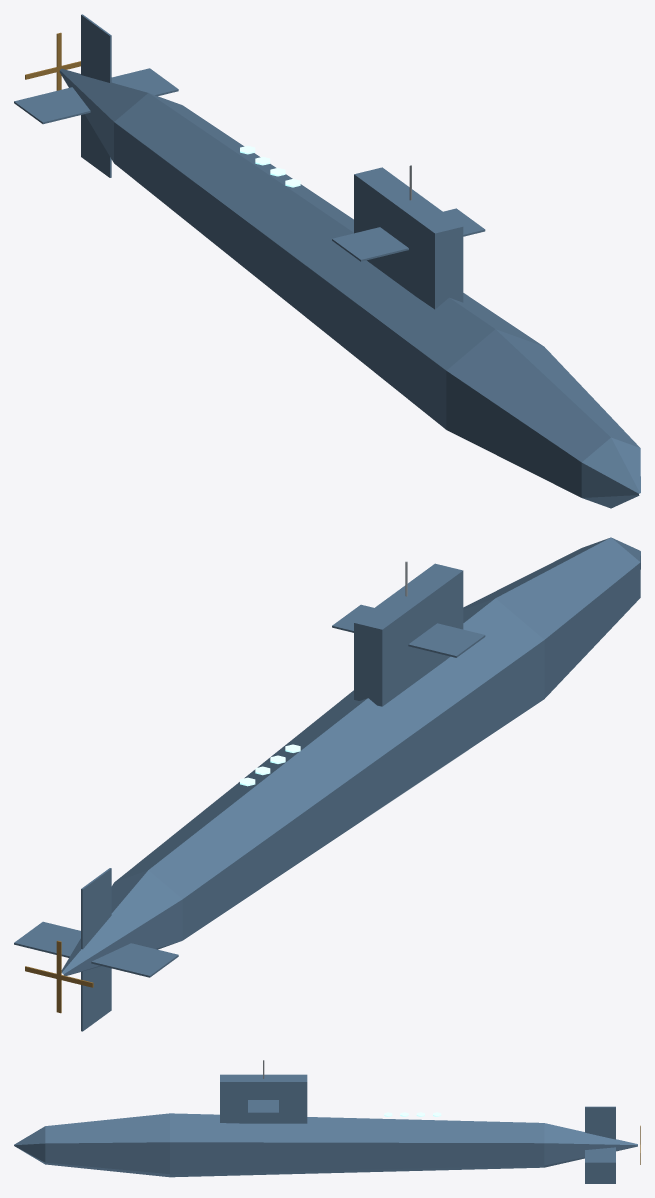
File: veh_naval_submarine_a10_lod1.glb
3 views of the same model, one above another, from view 1: azimuth 30°, elevation 25°; view 2: azimuth 150°, elevation 25°; view 3: azimuth 270°, elevation 25° (orthographic). The views are drawn at different scales.
Parts seen in each view (by area): view 1: body; view 2: body, propeller; view 3: body.
Part boxes in pixels (box(x1,y1,x2,y2)): body: box(14, 14, 640, 508); body: box(14, 537, 640, 1031); propeller: box(25, 940, 93, 1013); body: box(14, 1060, 637, 1183).
Size of the model in its own units: 6.24 by 10.08 by 46.23.
